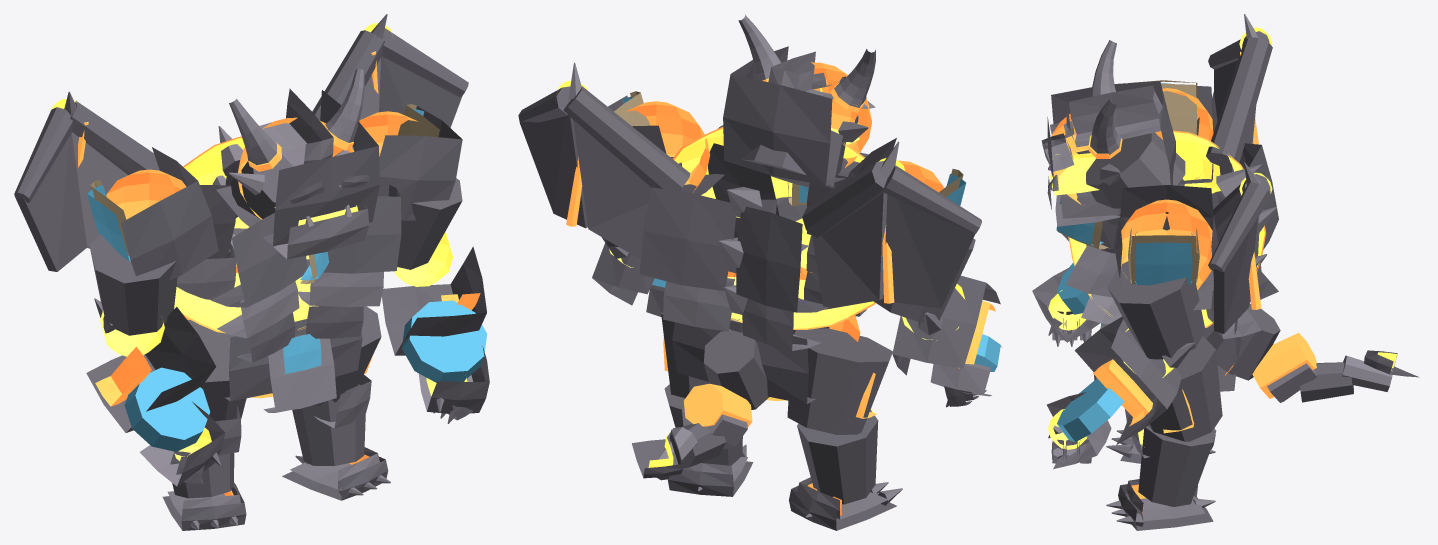
Rendered from gargola_magma.glb.
3 renders of one model, left to right at view 1: azimuth 30°, elevation 25°; view 2: azimuth 150°, elevation 25°; view 3: azimuth 270°, elevation 25°, orthographic. The views are drawn at different scales.
Visible parts, largest first — view 1: GargolaMagma; view 2: GargolaMagma; view 3: GargolaMagma.
Boxes of the visible parts, <box> form: GargolaMagma: <box>14,14,489,530</box>; GargolaMagma: <box>518,15,1002,530</box>; GargolaMagma: <box>1032,14,1419,530</box>.
Bounding box in the file's own units: 1.63 × 1.5 × 1.28.
